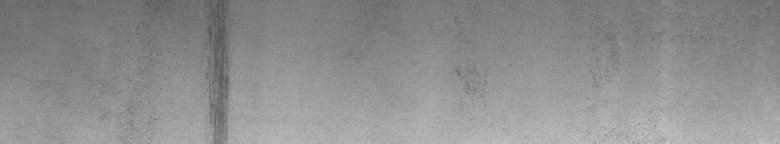hd: (204, 4, 235, 136)
